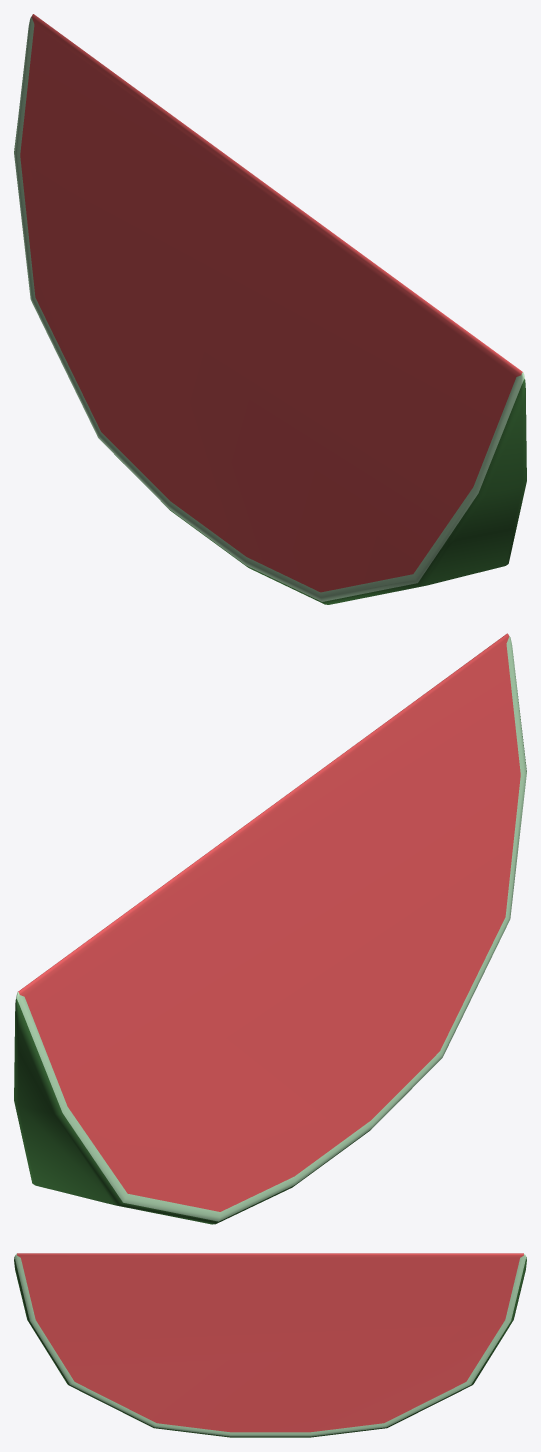
File: watermelon-slice.fbx
The picture shows the model from 3 angles, top to bottom: view 1: azimuth 30°, elevation 25°; view 2: azimuth 150°, elevation 25°; view 3: azimuth 270°, elevation 25°; orthographic projection. The views are drawn at different scales.
Visible parts, largest first — view 1: Slice; view 2: Slice; view 3: Slice.
Part boxes in pixels (x1,y1,x2,y2): Slice: [14, 14, 526, 604]; Slice: [14, 633, 526, 1224]; Slice: [14, 1253, 526, 1437].
Bounding box in the file's own units: 5.74 × 14.29 × 38.79.
